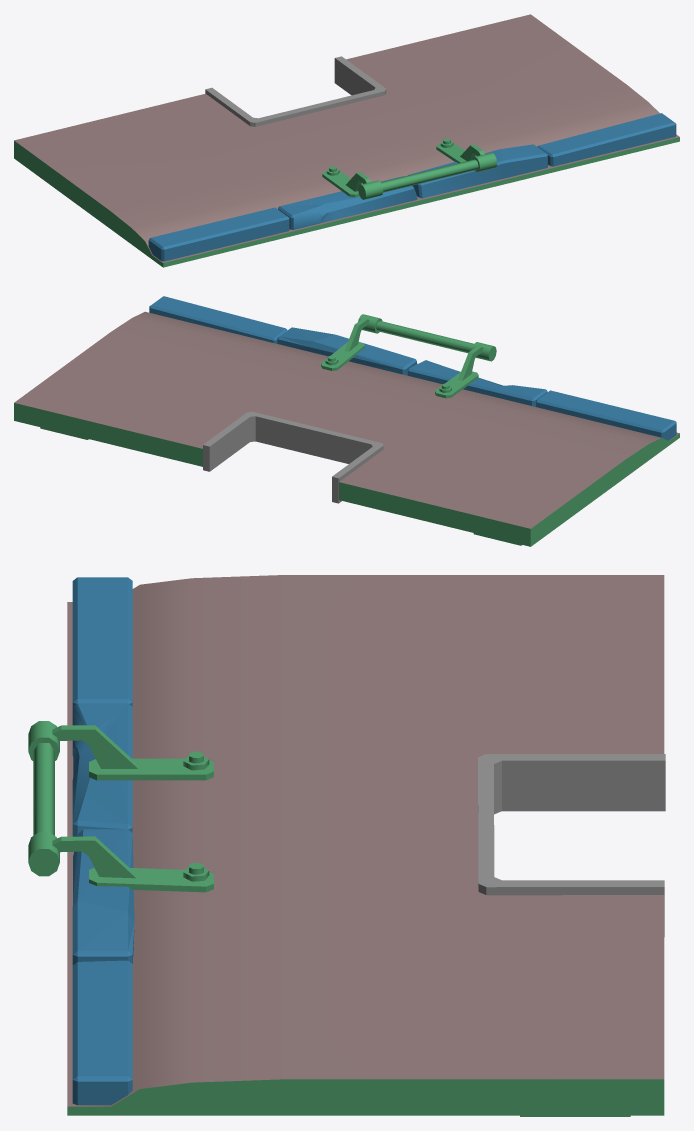
File: sidewalk dir parted part c lod0.FBX
The picture shows the model from 3 angles, top to bottom: view 1: azimuth 30°, elevation 25°; view 2: azimuth 150°, elevation 25°; view 3: azimuth 270°, elevation 25°; orthographic projection. The views are drawn at different scales.
Parts seen in each view (by area): view 1: Group047, Line039; view 2: Group047, Line039; view 3: Group047, Line039.
Boxes of the visible parts, x1=… form: Group047: x1=14, y1=14, x2=679, y2=267; Line039: x1=205, y1=56, x2=386, y2=126; Group047: x1=14, y1=296, x2=679, y2=546; Line039: x1=203, y1=411, x2=383, y2=503; Group047: x1=28, y1=575, x2=664, y2=1116; Line039: x1=478, y1=754, x2=665, y2=936.
Bounding box in the file's own units: 3 × 0.2775 × 1.6.
